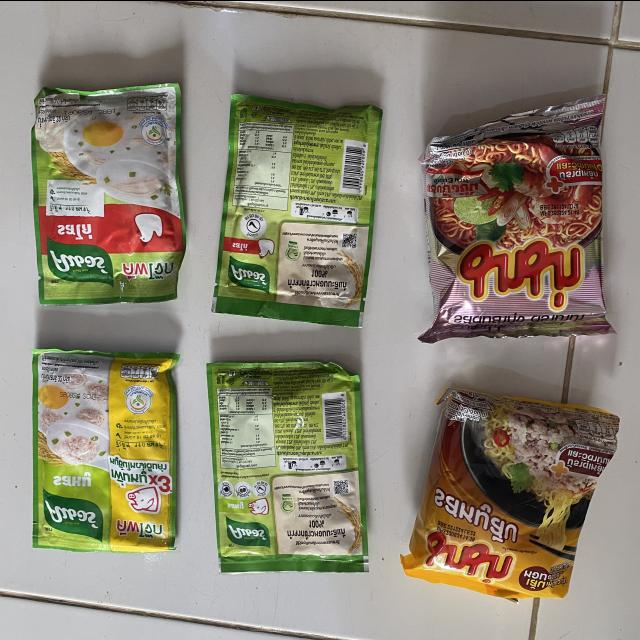plastik: (419, 95, 614, 342), (400, 387, 619, 600), (212, 93, 382, 326), (32, 82, 186, 303), (207, 361, 368, 572), (32, 349, 178, 552)
